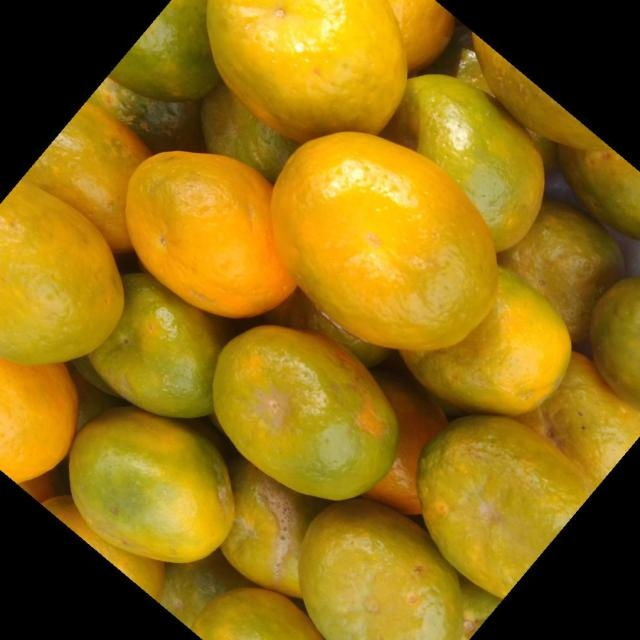agrume: (1, 1, 638, 638), (168, 312, 422, 516), (269, 130, 500, 351), (381, 393, 619, 604), (268, 486, 486, 640), (124, 149, 297, 319), (205, 0, 408, 141), (395, 74, 545, 247), (68, 411, 232, 563), (1, 182, 125, 365), (86, 275, 226, 419), (22, 101, 153, 250), (501, 207, 623, 345), (223, 457, 329, 596), (110, 0, 222, 100), (201, 84, 302, 186), (379, 2, 453, 73)
